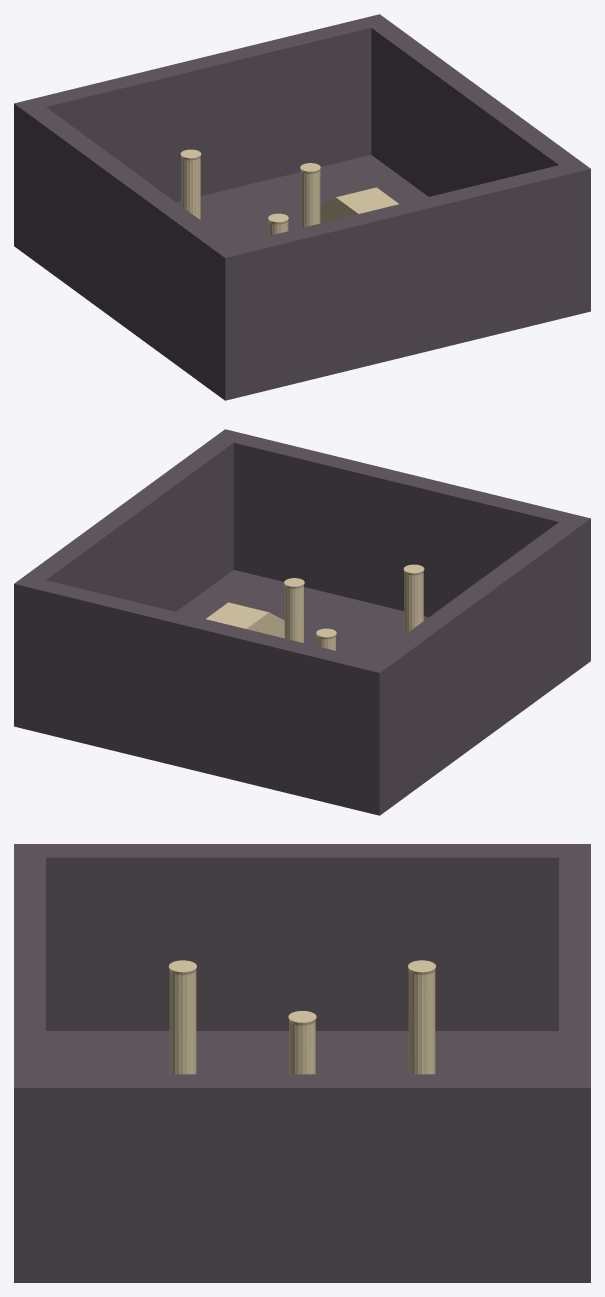
File: ExportedFBXFile.fbx
The picture shows the model from 3 angles, top to bottom: view 1: azimuth 30°, elevation 25°; view 2: azimuth 150°, elevation 25°; view 3: azimuth 270°, elevation 25°; orthographic projection. The views are drawn at different scales.
Parts seen in each view (by area): view 1: polySurface1, polySurface3, polySurface4, polySurface2, polySurface5, pCube44, Pillar:pCylinder1, Pillar2:pCylinder1; view 2: polySurface3, polySurface1, polySurface4, polySurface2, polySurface5, pCube44, Pillar1:pCylinder1, Pillar2:pCylinder1; view 3: polySurface2, polySurface4, polySurface5, polySurface1, polySurface3, Pillar:pCylinder1, Pillar1:pCylinder1, Pillar2:pCylinder1.
Part boxes in pixels (bbox=[...]): polySurface1: bbox=[225, 165, 590, 400]; polySurface3: bbox=[14, 14, 379, 202]; polySurface4: bbox=[14, 103, 233, 400]; polySurface2: bbox=[371, 14, 590, 196]; polySurface5: bbox=[176, 155, 428, 244]; pCube44: bbox=[320, 187, 398, 223]; Pillar:pCylinder1: bbox=[180, 149, 201, 219]; Pillar2:pCylinder1: bbox=[300, 163, 320, 227]; polySurface3: bbox=[14, 580, 379, 815]; polySurface1: bbox=[225, 429, 590, 617]; polySurface4: bbox=[371, 518, 590, 815]; polySurface2: bbox=[14, 429, 233, 611]; polySurface5: bbox=[176, 570, 428, 659]; pCube44: bbox=[206, 602, 284, 638]; Pillar1:pCylinder1: bbox=[403, 564, 424, 634]; Pillar2:pCylinder1: bbox=[284, 578, 304, 642]; polySurface2: bbox=[14, 1074, 590, 1282]; polySurface4: bbox=[14, 844, 590, 1030]; polySurface5: bbox=[46, 1031, 558, 1074]; polySurface1: bbox=[14, 844, 45, 1087]; polySurface3: bbox=[559, 844, 590, 1087]; Pillar:pCylinder1: bbox=[408, 960, 436, 1074]; Pillar1:pCylinder1: bbox=[168, 960, 196, 1074]; Pillar2:pCylinder1: bbox=[288, 1011, 316, 1074].
Size of the model in its own units: 43.43 by 16.19 by 43.43.
